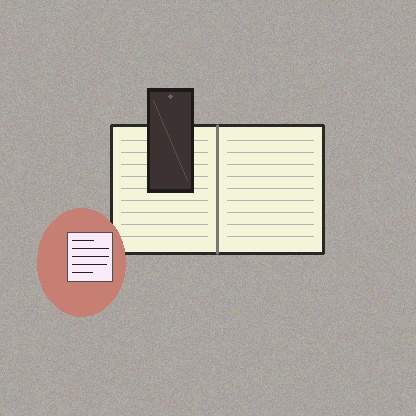book: (111, 125, 323, 253)
cell_phone: (147, 88, 193, 192)
exam_chit: (67, 232, 112, 281)
